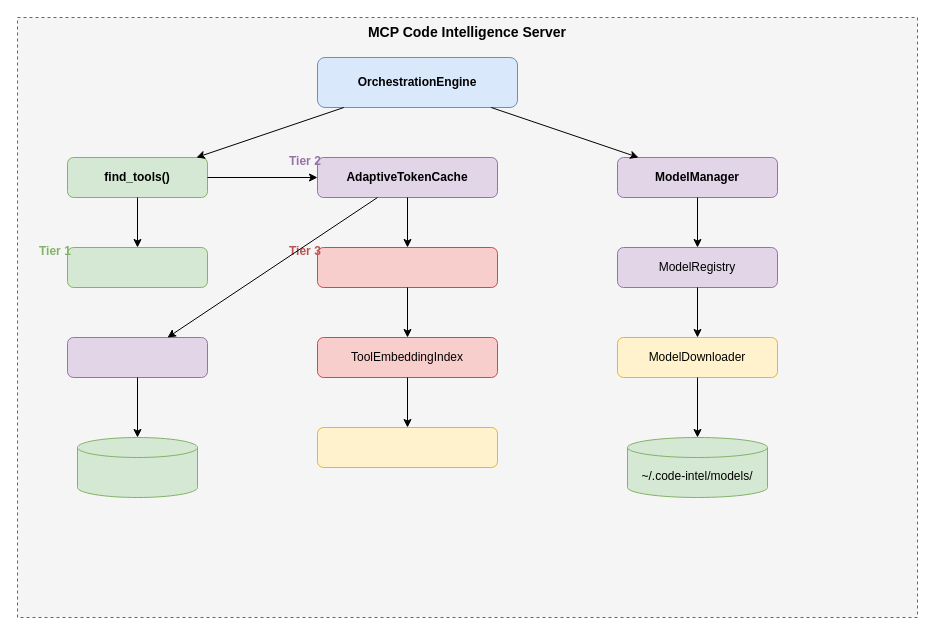
This 935x635 diagram has some shape labels left out. The centre of each missing label's shape, as x and y in pixels:
"CachePersistence" goes at pixel 137 357.
"EmbeddingSearcher" goes at pixel 407 267.
"OnnxEmbeddingProvider" goes at pixel 407 447.
"token-cache.json" goes at pixel 137 467.
"UnifiedRegistry" goes at pixel 137 267.
